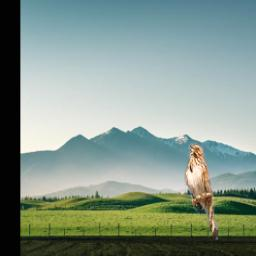Sparrow: (185, 142, 219, 241)
